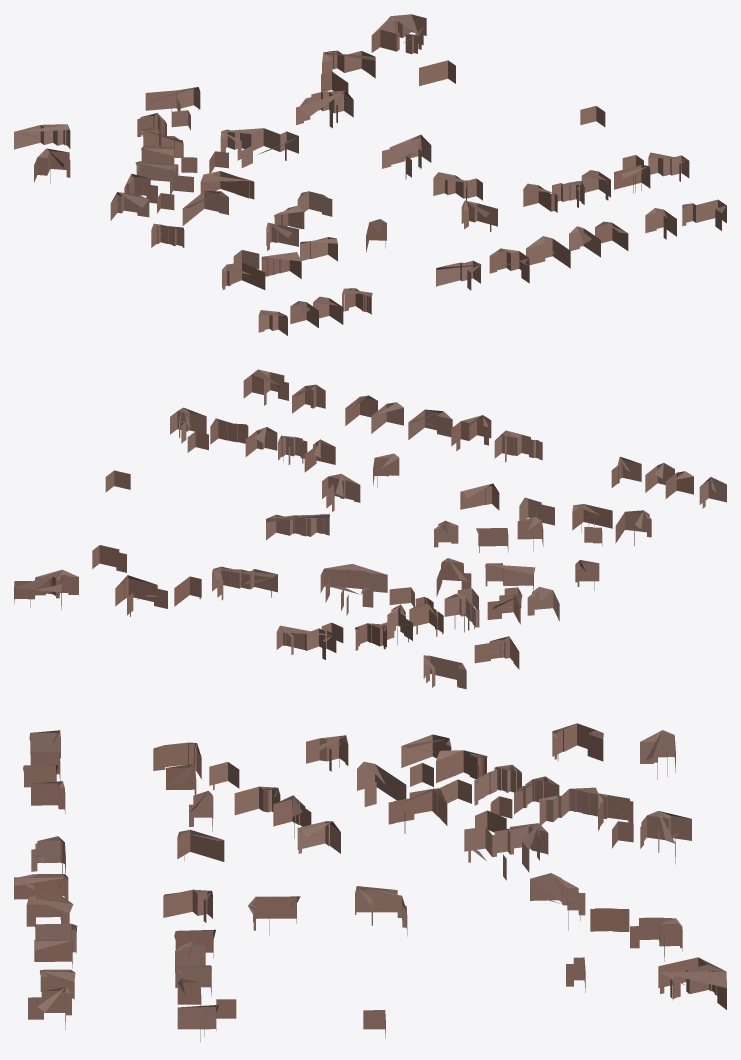
File: c_1645_17824_buildings_residential.glb
3 views of the same model, one above another, from view 1: azimuth 30°, elevation 25°; view 2: azimuth 150°, elevation 25°; view 3: azimuth 270°, elevation 25° (orthographic). The views are drawn at different scales.
Parts seen in each view (by area): view 1: geometry_0; view 2: geometry_0; view 3: geometry_0.
Part boxes in pixels (<box>): geometry_0: <box>14,14,726,335</box>; geometry_0: <box>14,369,726,689</box>; geometry_0: <box>14,723,726,1041</box>.
Bounding box in the file's own units: 268 × 10.94 × 269.
